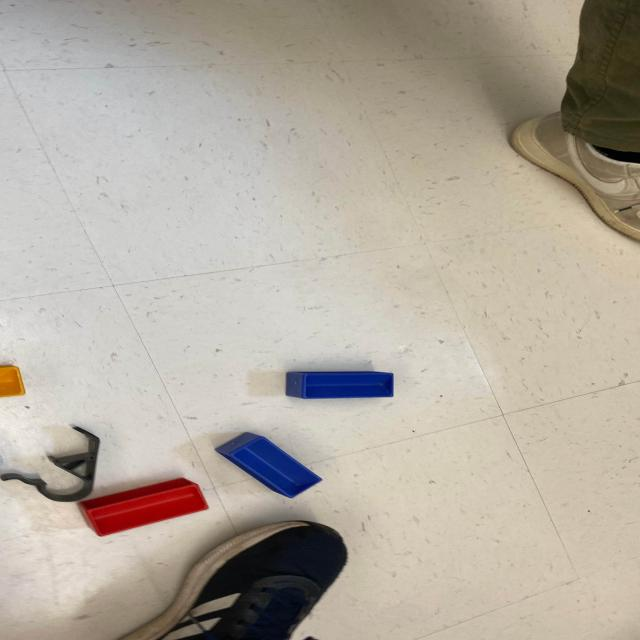blue-specimen: (214, 432, 324, 498), (285, 370, 397, 399)
red-specimen: (76, 476, 210, 535)
yellow-specimen: (0, 363, 23, 398)
